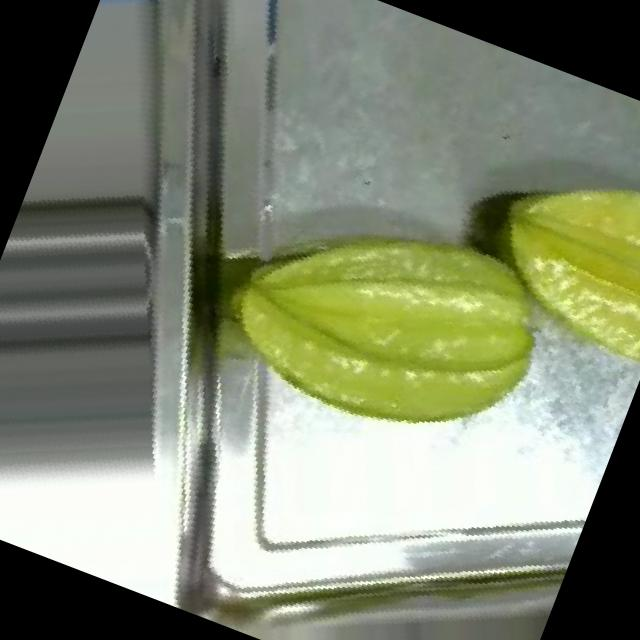fruit: (166, 112, 614, 537), (418, 92, 640, 431)
